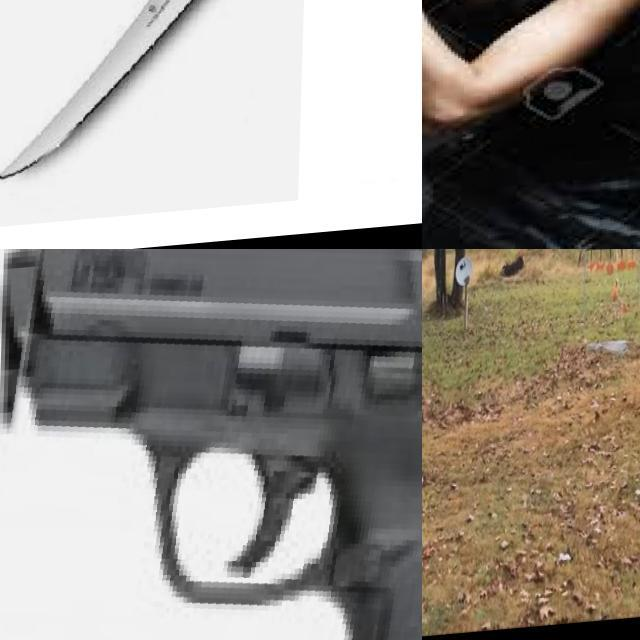-: (0, 0, 308, 229)
gun-knife-thesis - v11 Yolov5 augmented: (0, 249, 422, 640), (422, 0, 490, 80), (422, 291, 460, 428)
